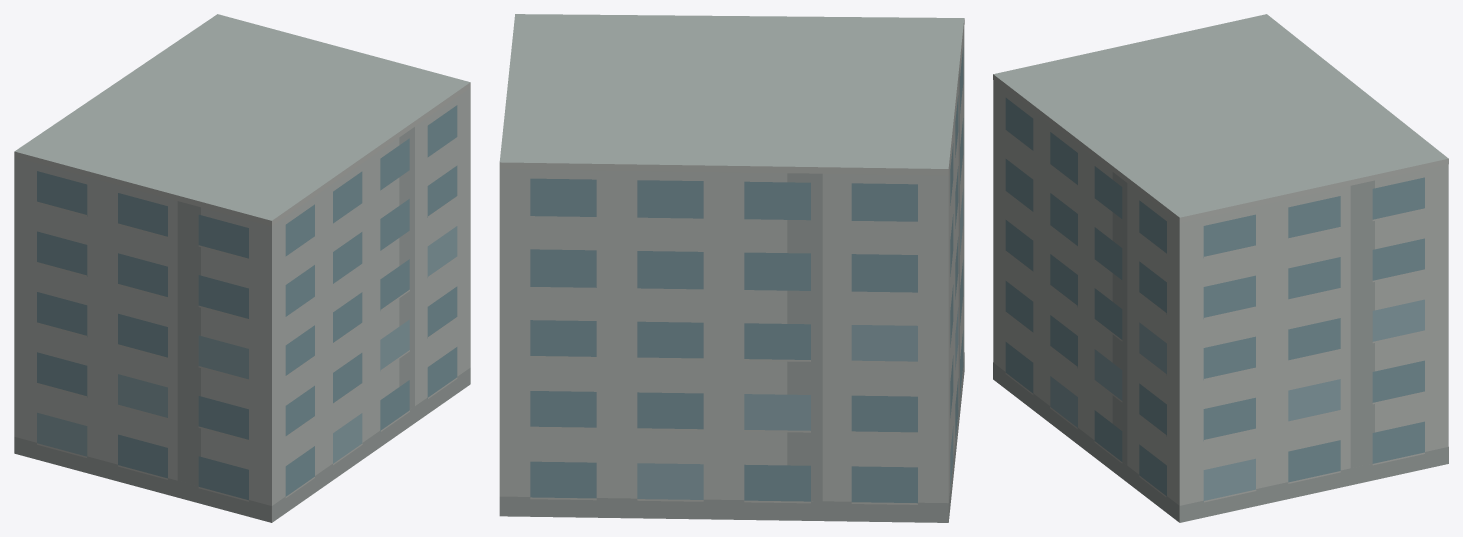
Rendered from survey-upis-32932422.glb.
3 views of the same model, side by side, from view 1: azimuth 30°, elevation 25°; view 2: azimuth 150°, elevation 25°; view 3: azimuth 270°, elevation 25° (orthographic). The views are drawn at different scales.
Visible parts, largest first — view 1: survey-upis-32932422.tmp; view 2: survey-upis-32932422.tmp; view 3: survey-upis-32932422.tmp.
Boxes of the visible parts, x1,y1,x2,y2 form: survey-upis-32932422.tmp: [14, 14, 470, 522]; survey-upis-32932422.tmp: [499, 14, 964, 522]; survey-upis-32932422.tmp: [993, 14, 1448, 522].
Bounding box in the file's own units: 19.05 × 13.3 × 18.01.
